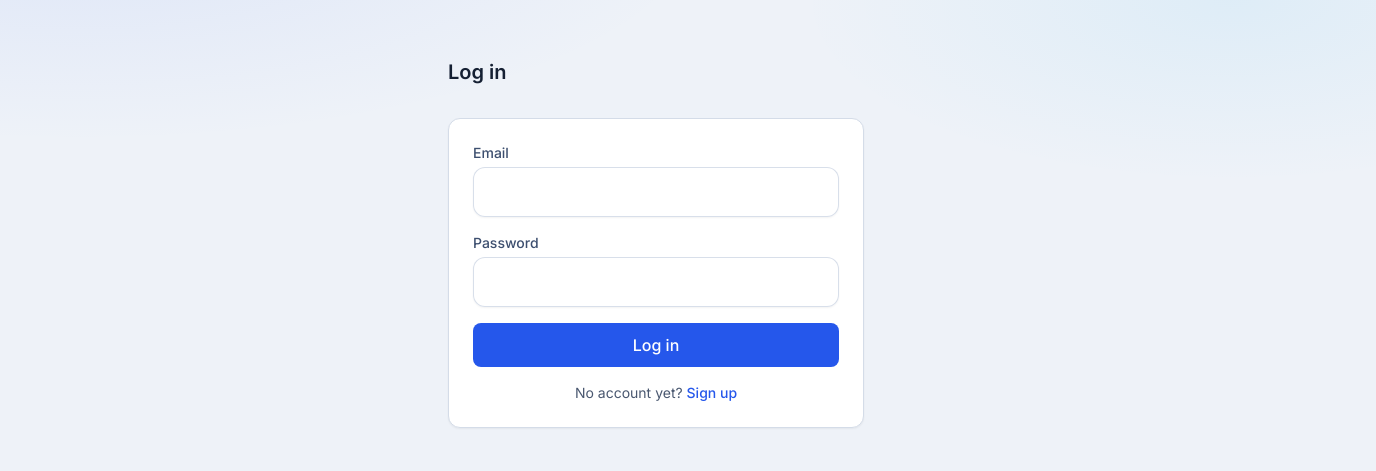
Test case: LoginPage › shows API error without route suffix
expect the heading "Log in" is shown: met, box [448, 60, 506, 84]
Type "user@test.dev" into the field labelled "Email". click: [656, 192]
box: [473, 167, 839, 217]
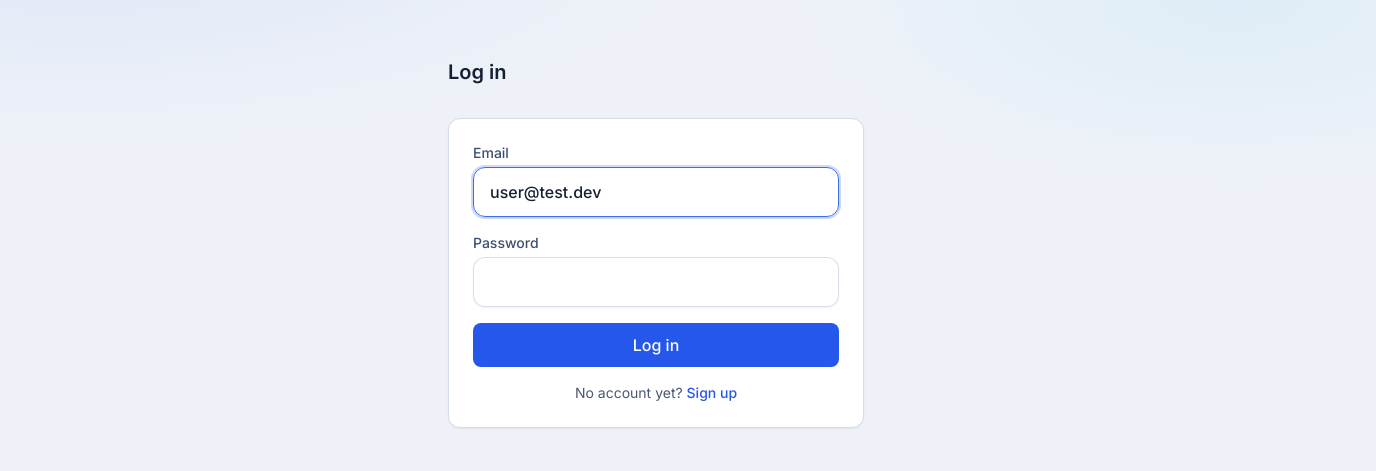
Type "wrong" into the password field labelled "Password". click: [656, 282]
box: [473, 257, 839, 307]
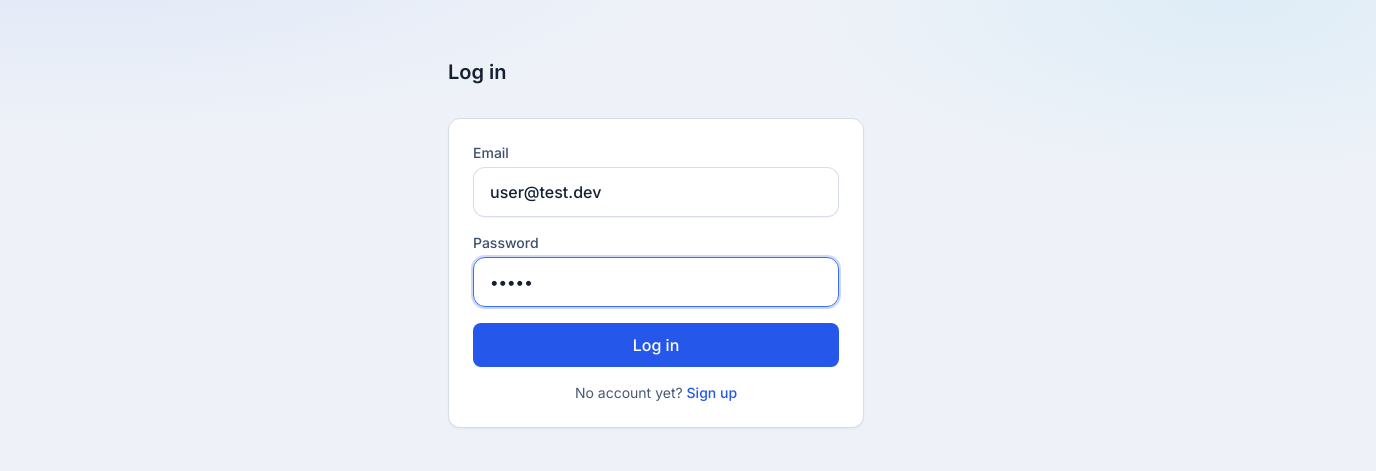
Click the button "Log in". click: [656, 345]
box: [473, 323, 839, 367]
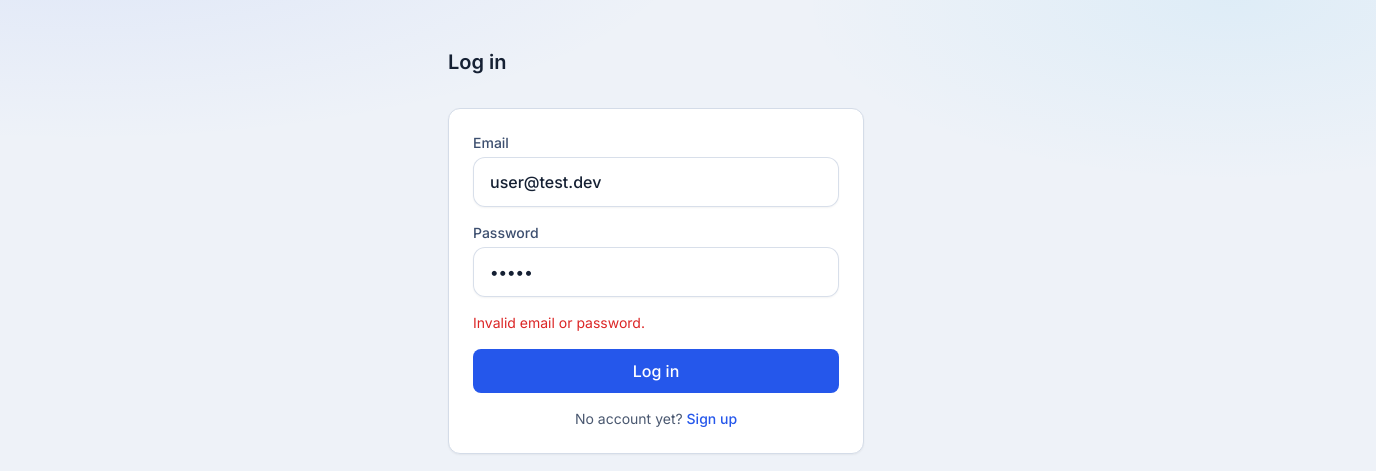
expect the text "Invalid email or password." is shown: met, box [473, 314, 645, 331]
